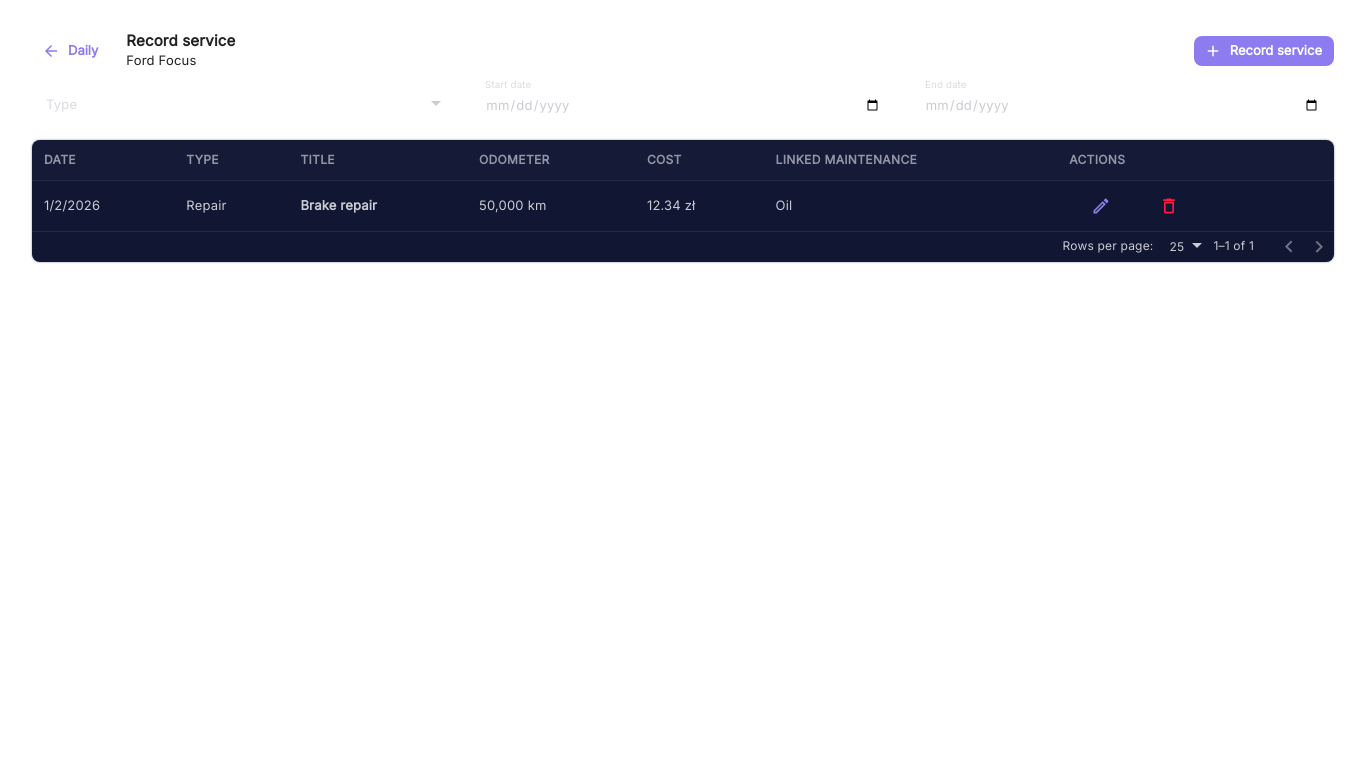
My Garage review round 1 › history_WhenDialogOpens_UsesAccessibleLinkGroupAndRowsPerPageLabel
The width and height of the screenshot is (1366, 768).
Expected: the text "Brake repair" is shown, [300,197,377,213]
Expected: the dropdown named "Rows per page:" is shown, [1170,239,1184,254]
What coordinates should you click on to do the following:
click the button "Record service"
I would click on:
 (1264, 51)
Its box is [1194,36,1334,66].
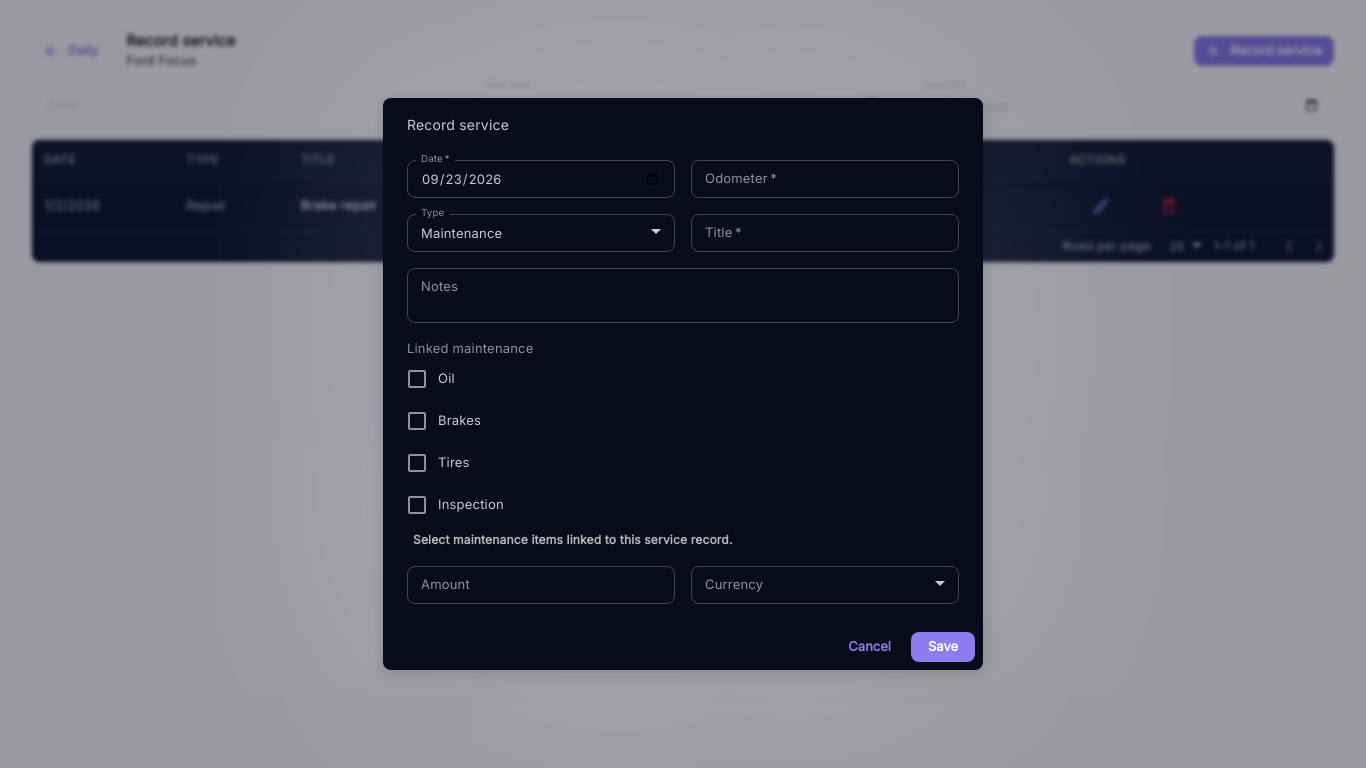
Expected: the element "Linked maintenance" is shown, [405,340,733,547]
Expected: the text "Select maintenance items linked to this service record." is shown, [413,532,733,547]
